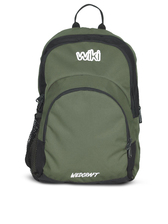bag: (20, 4, 147, 185)
